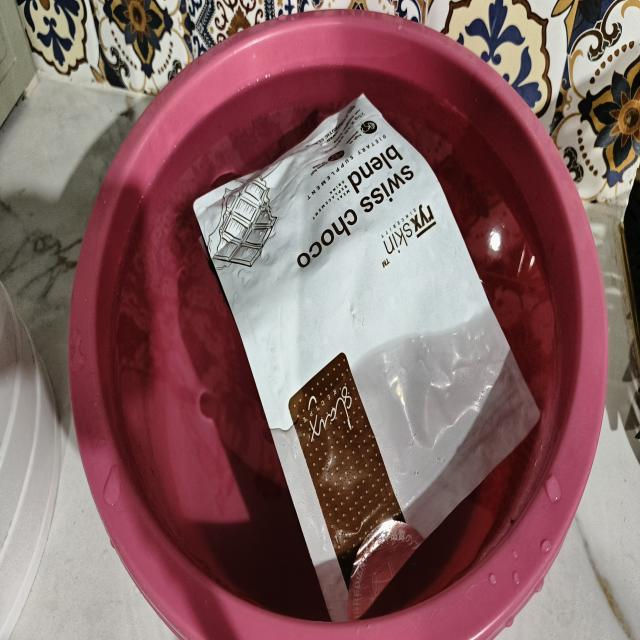Plastic Wrapper: (178, 67, 560, 630)
